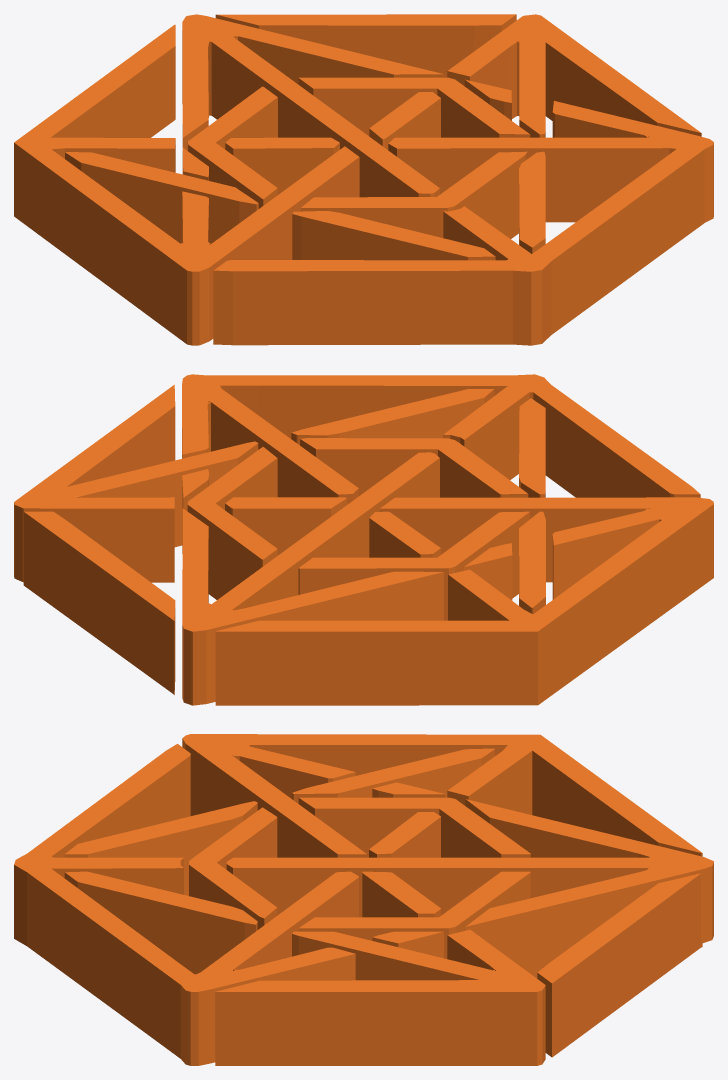
The model's file is wick-gifting.glb.
3 views of the same model, one above another, from view 1: azimuth 30°, elevation 25°; view 2: azimuth 150°, elevation 25°; view 3: azimuth 270°, elevation 25° (orthographic).
Bounding box in the file's own units: 0.0947 × 0.0127 × 0.1087.
